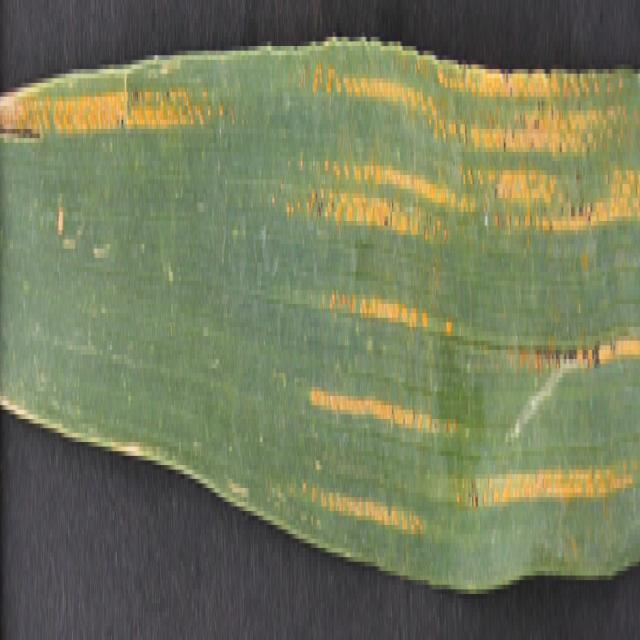leaf rust: (298, 28, 636, 562), (1, 23, 212, 207)
